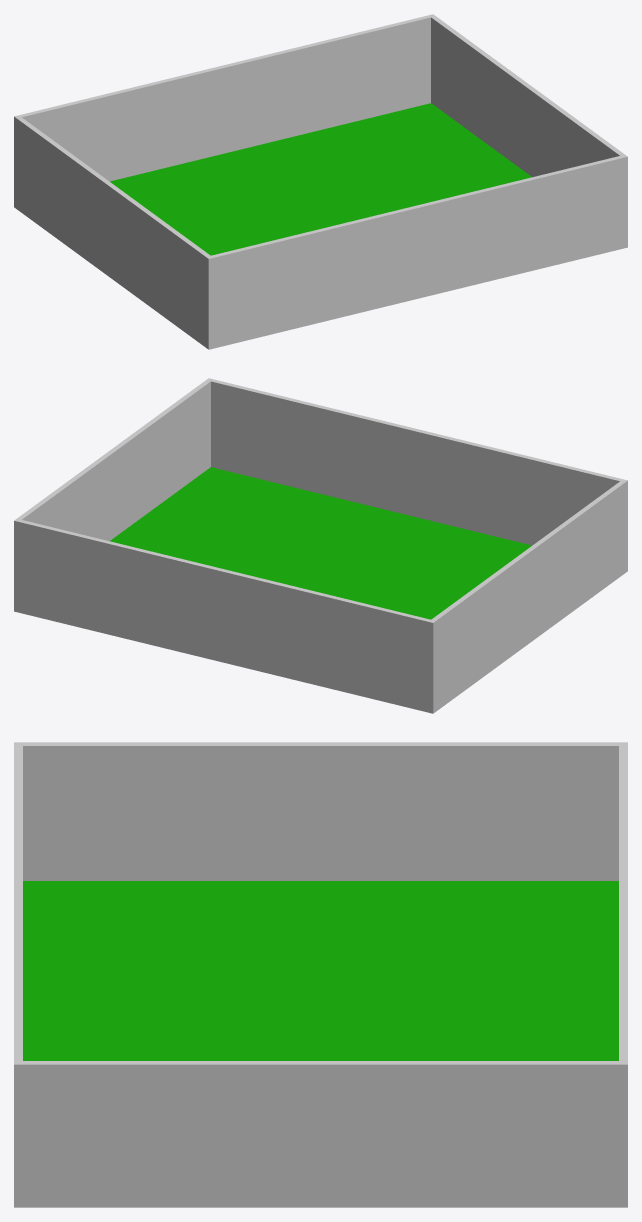
Rendered from coloreado.dae.
3 views of the same model, one above another, from view 1: azimuth 30°, elevation 25°; view 2: azimuth 150°, elevation 25°; view 3: azimuth 270°, elevation 25° (orthographic). The views are drawn at different scales.
Visible parts, largest first — view 1: node0; view 2: node0; view 3: node0.
Boxes of the visible parts, bbox=[...] form: node0: bbox=[14, 14, 627, 349]; node0: bbox=[14, 378, 627, 713]; node0: bbox=[14, 742, 627, 1207].
Size of the model in its own units: 2560 by 2060 by 530.
